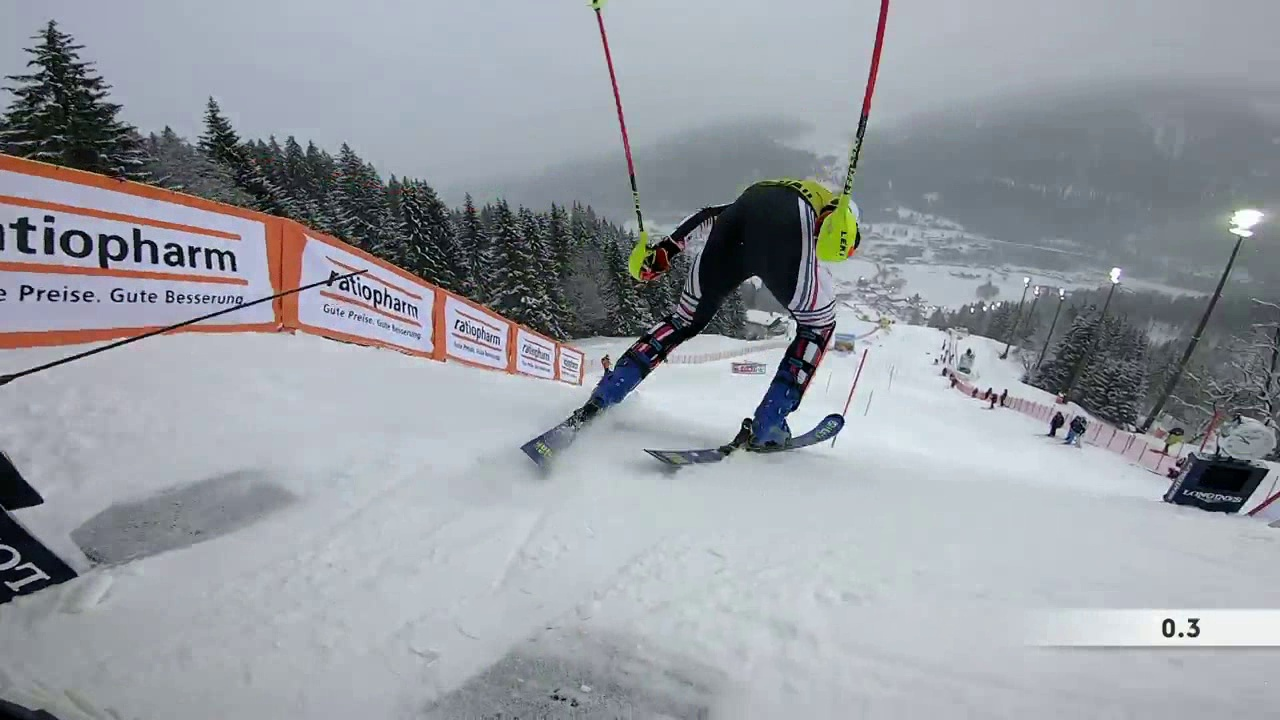longines: (1181, 490, 1250, 507)
ratiopharm: (1, 176, 259, 315), (316, 264, 429, 343), (448, 309, 511, 367), (517, 337, 556, 372)
